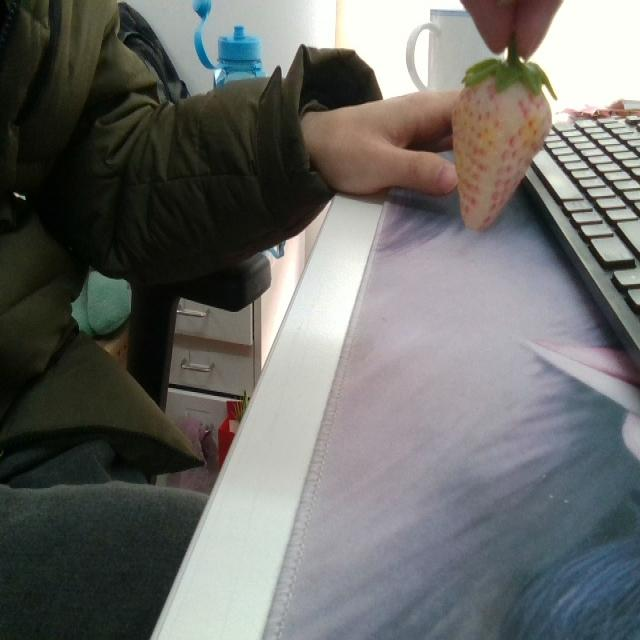immature: (449, 53, 552, 235)
